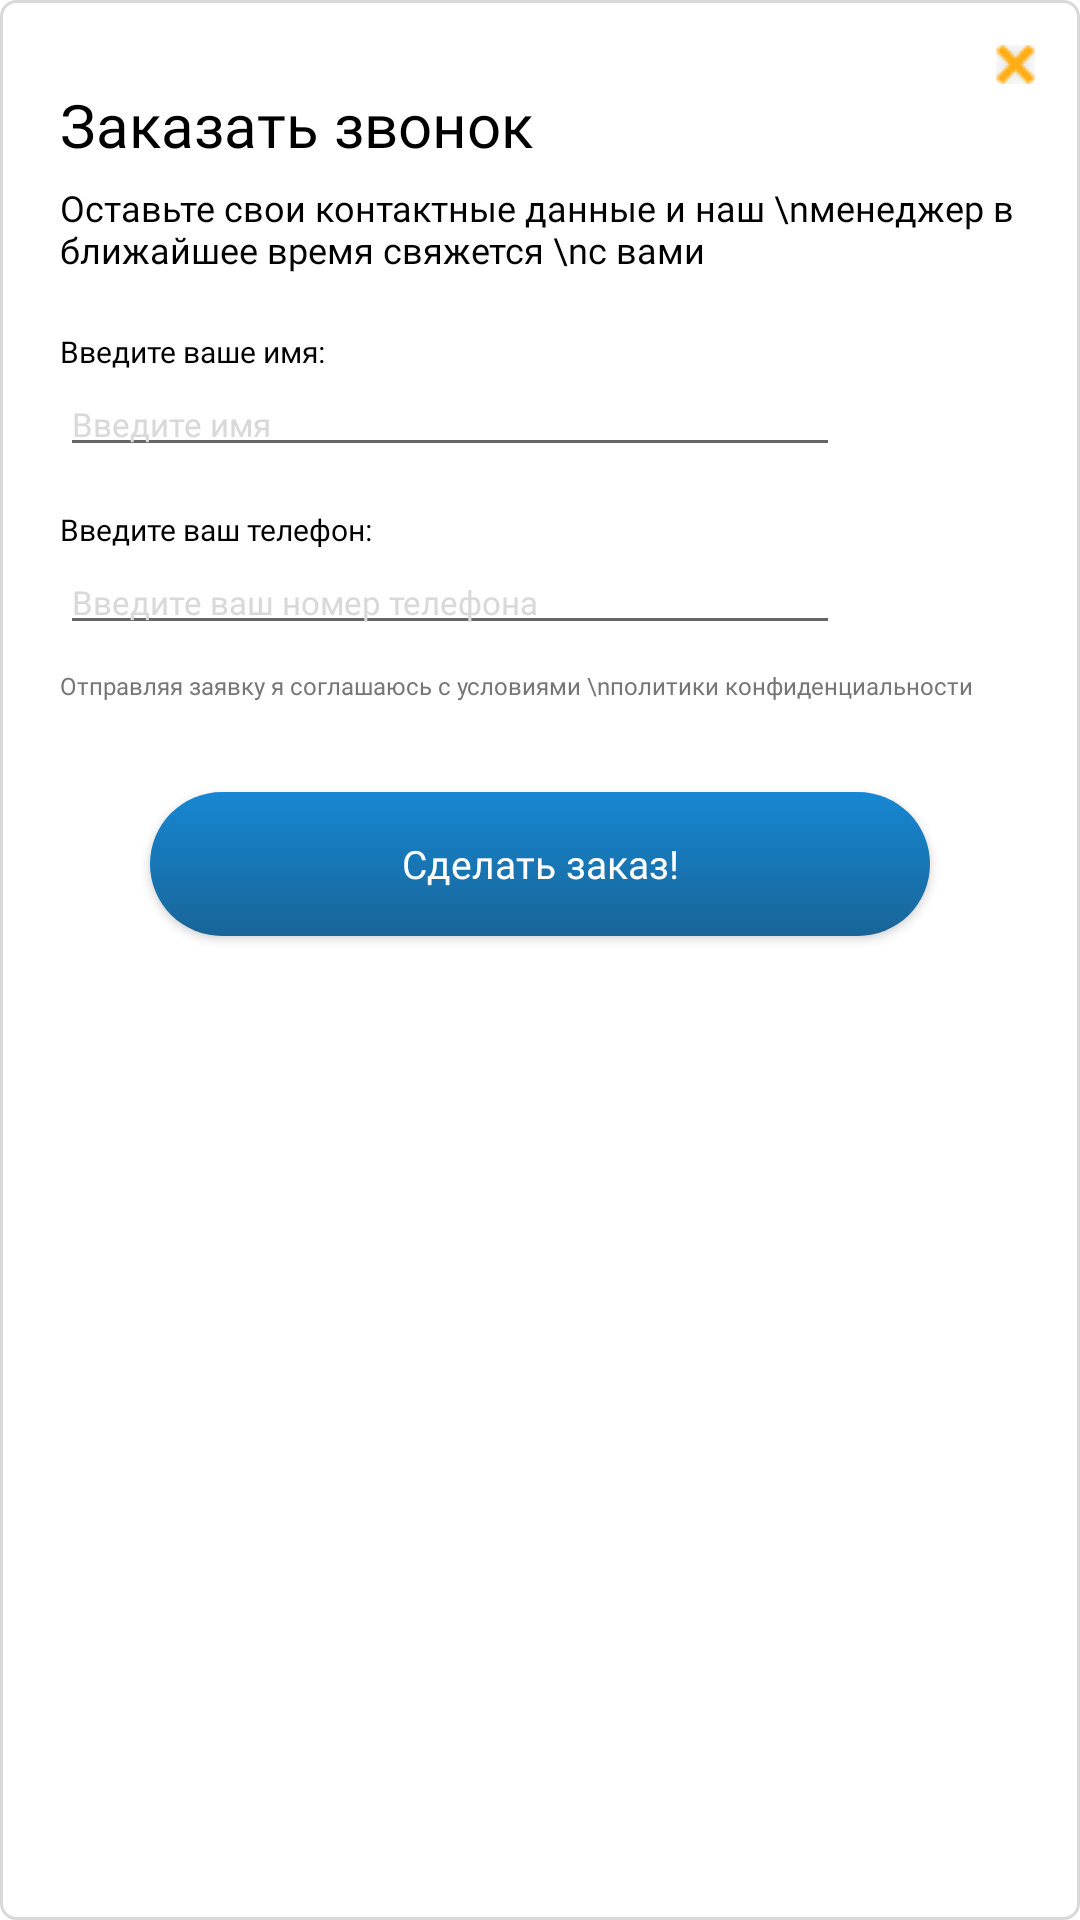

Named icons in this screenshot (1080px×1920px) and their centers, (x,y):
close: (1015,64)
